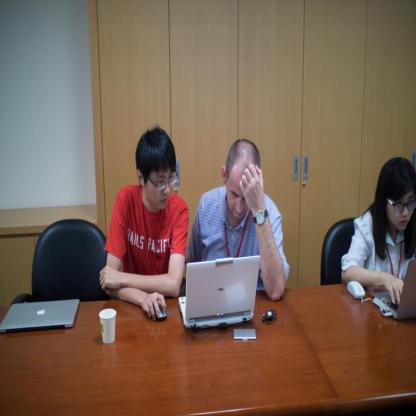board: (181, 251, 264, 332), (369, 258, 416, 322), (0, 299, 80, 333), (100, 306, 116, 344)
